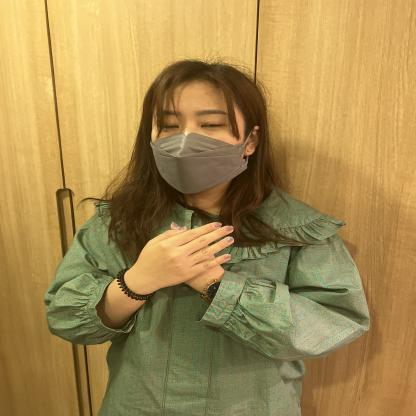Grieve: (37, 216, 346, 333)
